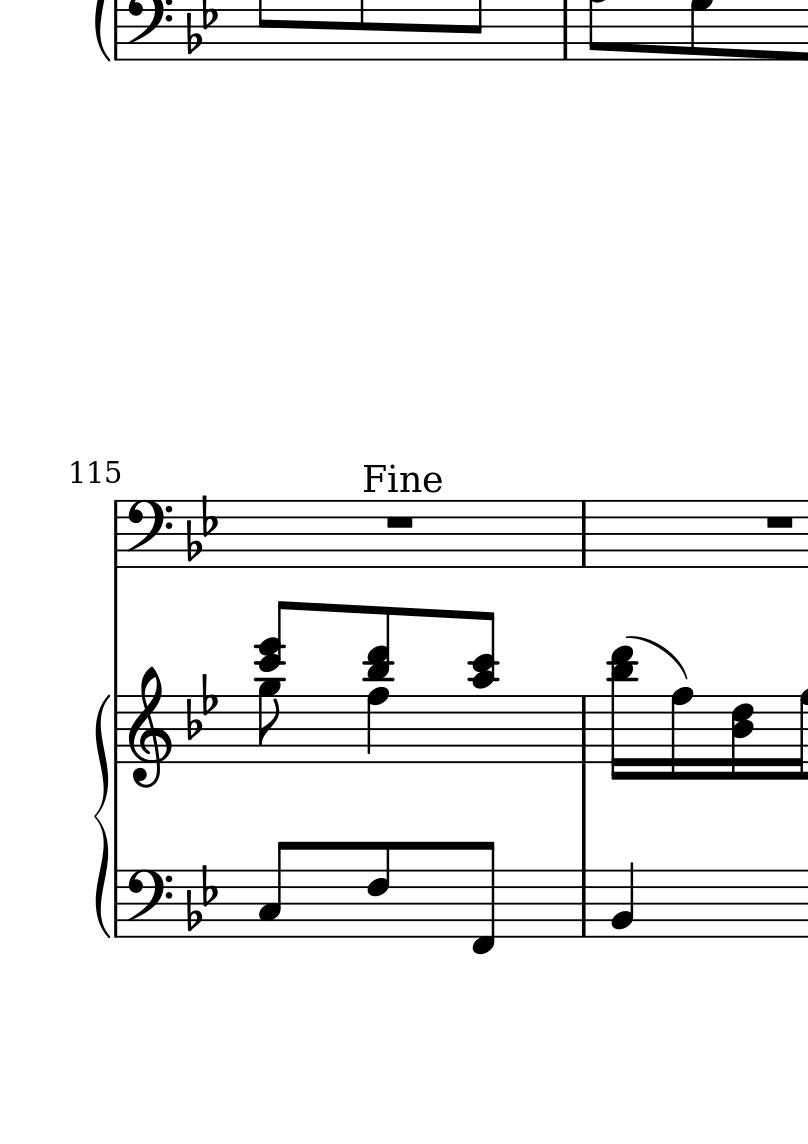1: (69, 457, 84, 486), (87, 458, 102, 487)
16_8: (669, 686, 694, 783)
4_2: (609, 860, 636, 940)
4_8: (365, 686, 391, 766)
8_-1: (468, 839, 499, 956)
8_10_12: (465, 609, 500, 764)
8_11_13: (607, 644, 639, 784)
8_3: (256, 839, 292, 939)
8_6: (364, 839, 392, 940)
8_9: (256, 677, 284, 764)
B_F: (185, 669, 220, 740), (186, 862, 220, 935), (186, 494, 220, 561), (185, 1, 218, 53)
Brace: (95, 690, 112, 940)
Fclef: (125, 498, 174, 571), (125, 867, 174, 937)
Gclef: (127, 663, 174, 791)
Rests1: (383, 511, 418, 531), (762, 512, 797, 532)
Single_barline: (575, 500, 594, 567), (575, 696, 594, 763), (575, 869, 593, 936), (108, 501, 125, 568), (110, 695, 126, 765), (111, 870, 126, 938)
Slur: (624, 633, 686, 683)
